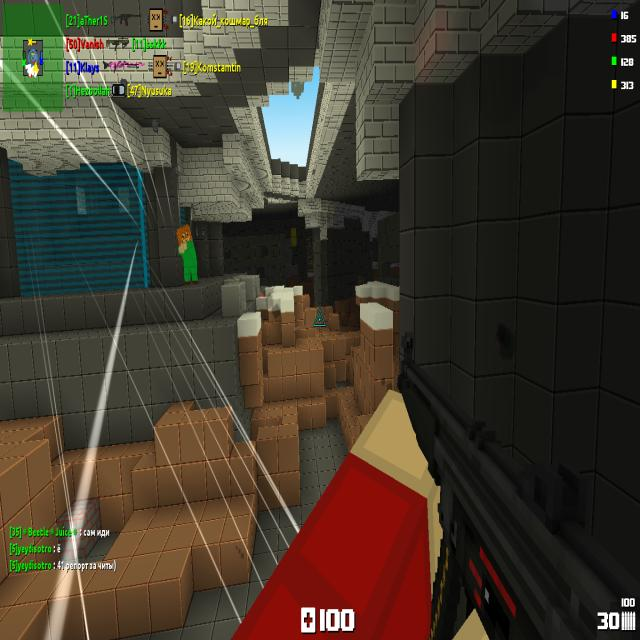enemy: (175, 223, 199, 284)
